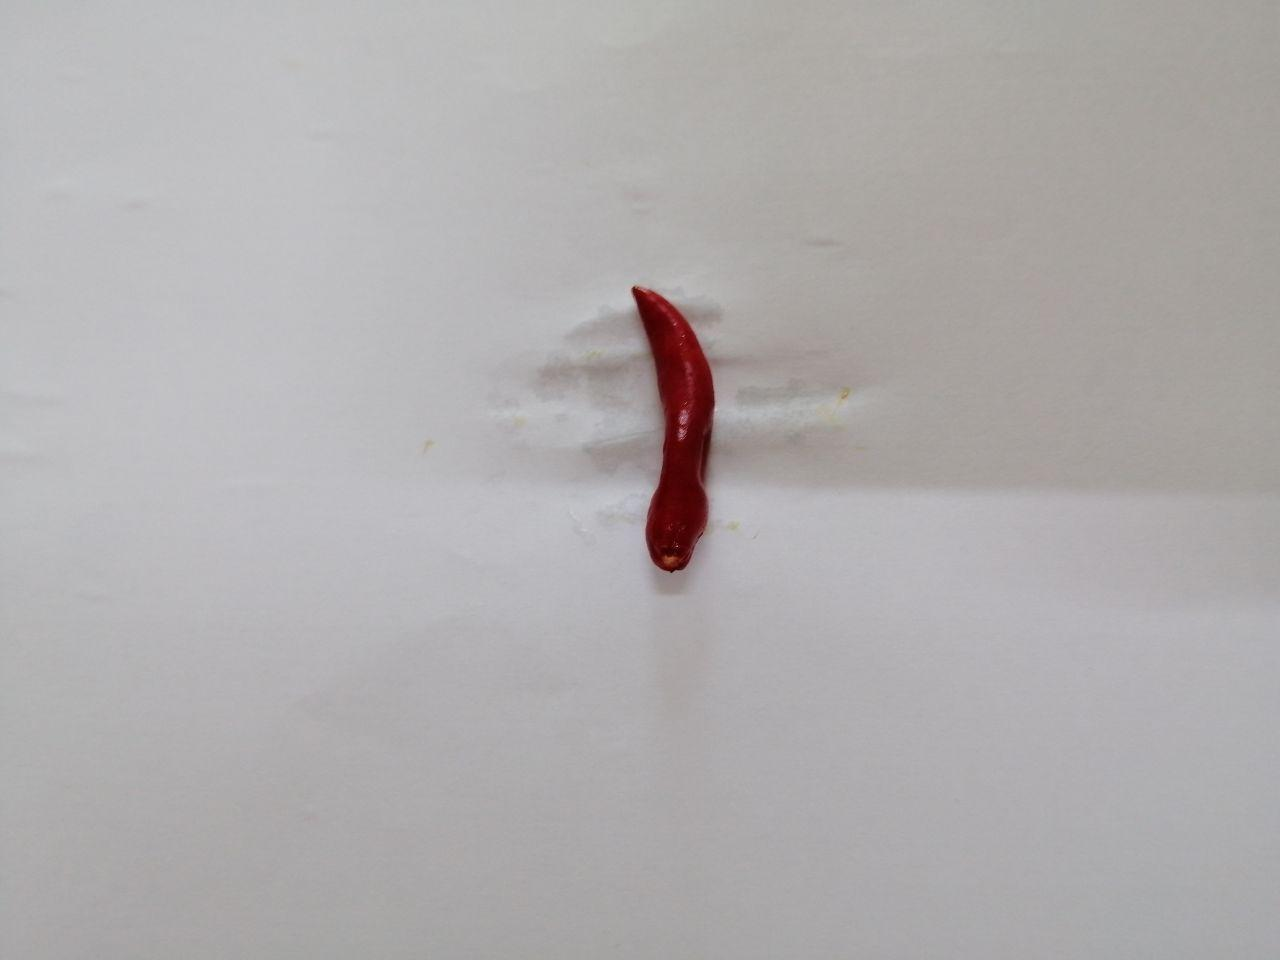lada merah: (616, 274, 731, 596)
